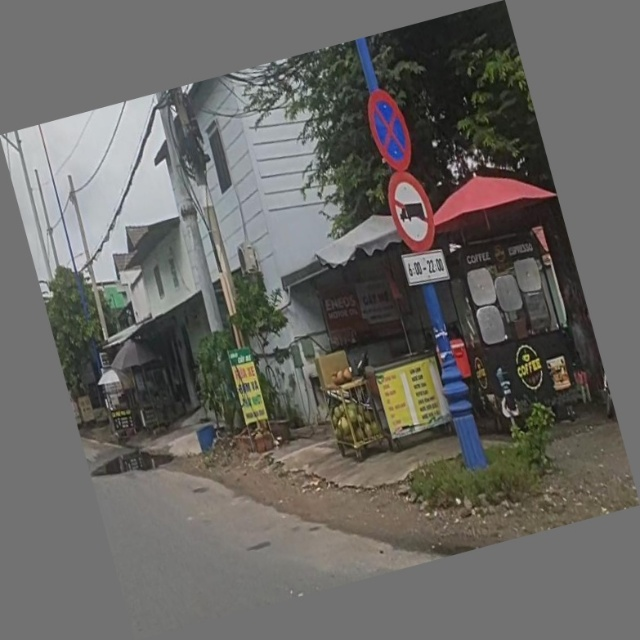B.8a: (383, 166, 443, 256)
P.130: (362, 84, 418, 174)
